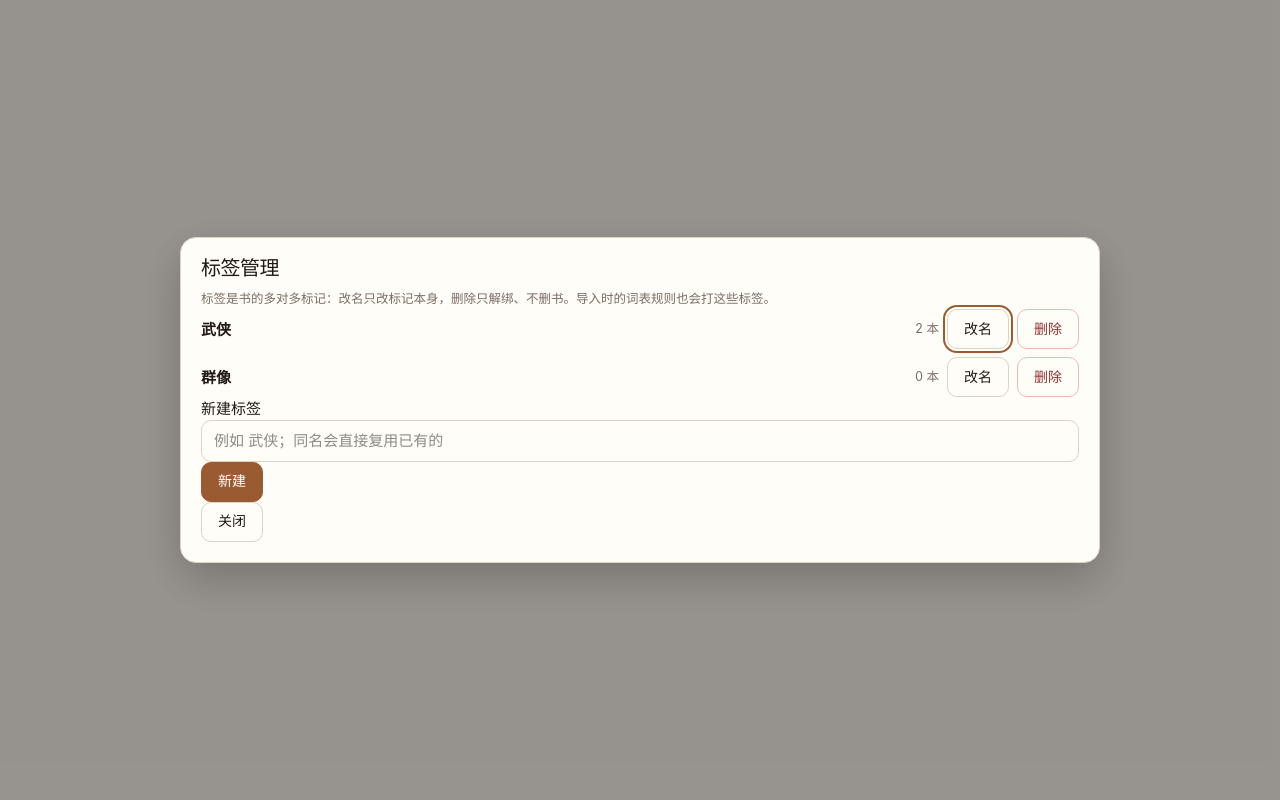
Test: 标签管理弹窗 › C-79 新建标签是「名称输入 + 新建按钮」一对：空名给常驻文案
Click the button with test id "tag-create" at {"x": 232, "y": 482}, box x1=201 y1=462 x2=263 y2=502
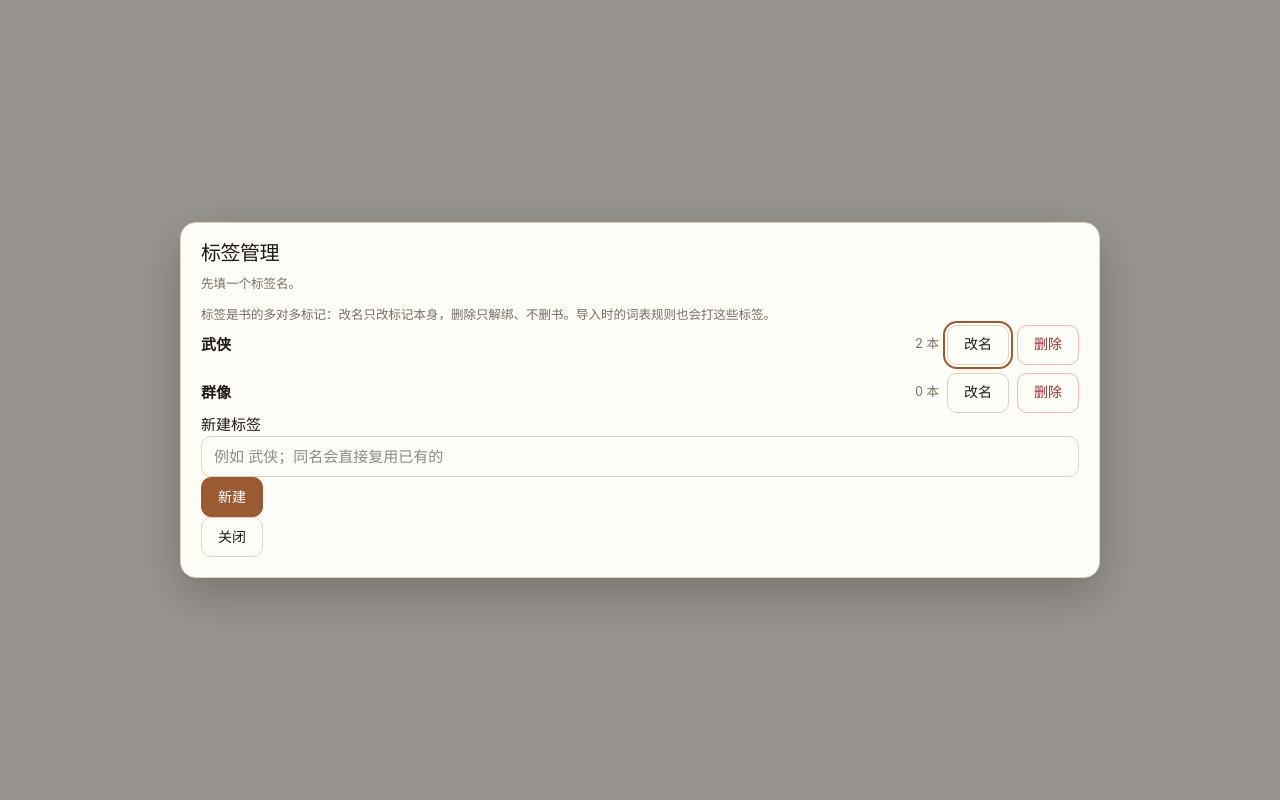
Expected: the message with test id "tag-manage-error" reads "先填一个标签名。", x1=201 y1=276 x2=301 y2=291
